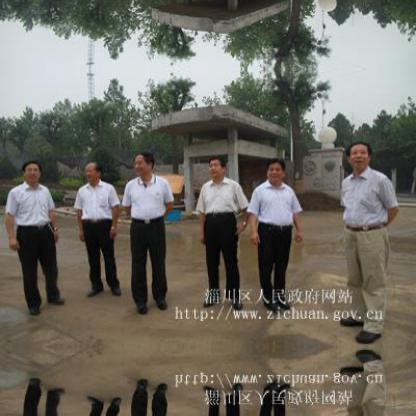No Helmet: (344, 138, 375, 174), (130, 152, 158, 178), (82, 156, 104, 186), (262, 160, 286, 186), (201, 158, 226, 182), (22, 160, 42, 184)
